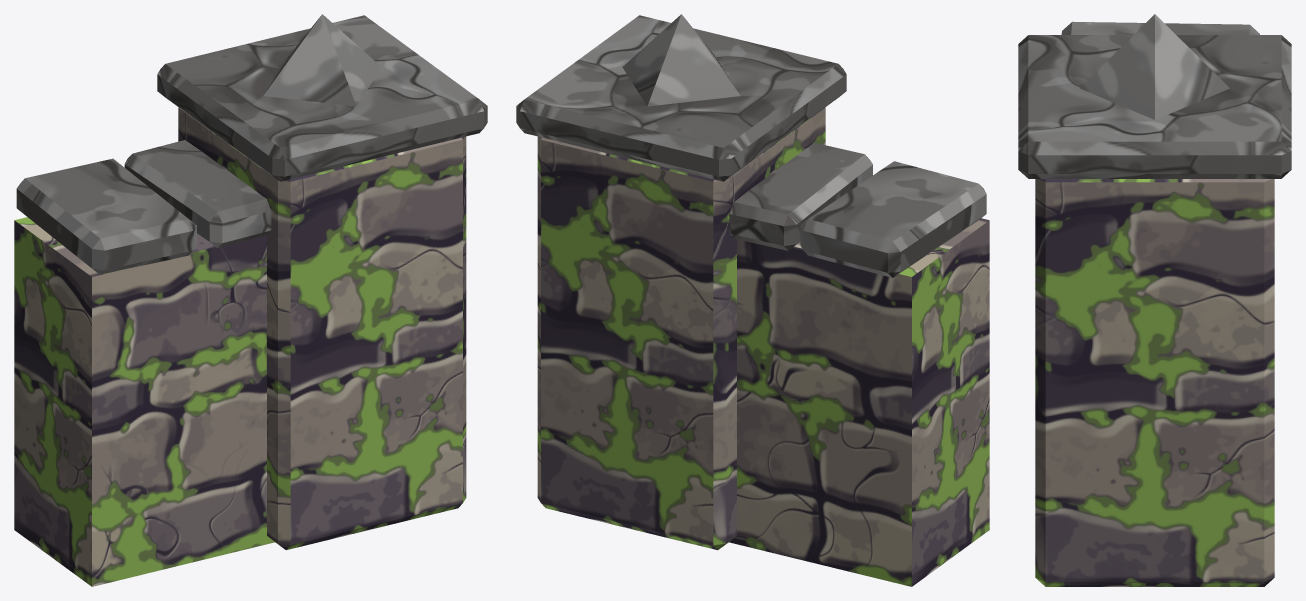
File: stone_wall_end.glb
The picture shows the model from 3 angles, left to right: view 1: azimuth 30°, elevation 25°; view 2: azimuth 150°, elevation 25°; view 3: azimuth 270°, elevation 25°; orthographic projection. The views are drawn at different scales.
Visible parts, largest first — view 1: Wall; view 2: Wall; view 3: Wall.
Part boxes in pixels (box(x1,y1,x2,y2)): Wall: box(14, 14, 487, 586); Wall: box(516, 14, 989, 586); Wall: box(1018, 14, 1291, 586).
Bounding box in the file's own units: 1.4 × 1.7 × 0.8.
Materials: 2 (2 with a texture image).
